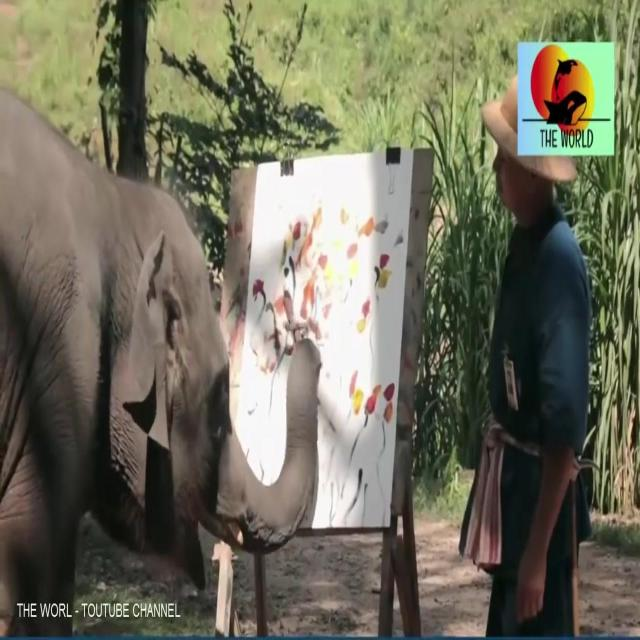Elephant: (0, 100, 318, 570)
